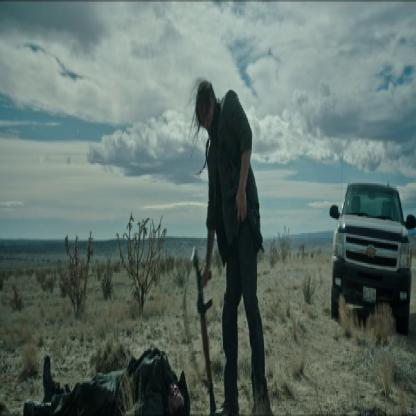Guns: (192, 248, 217, 414)
